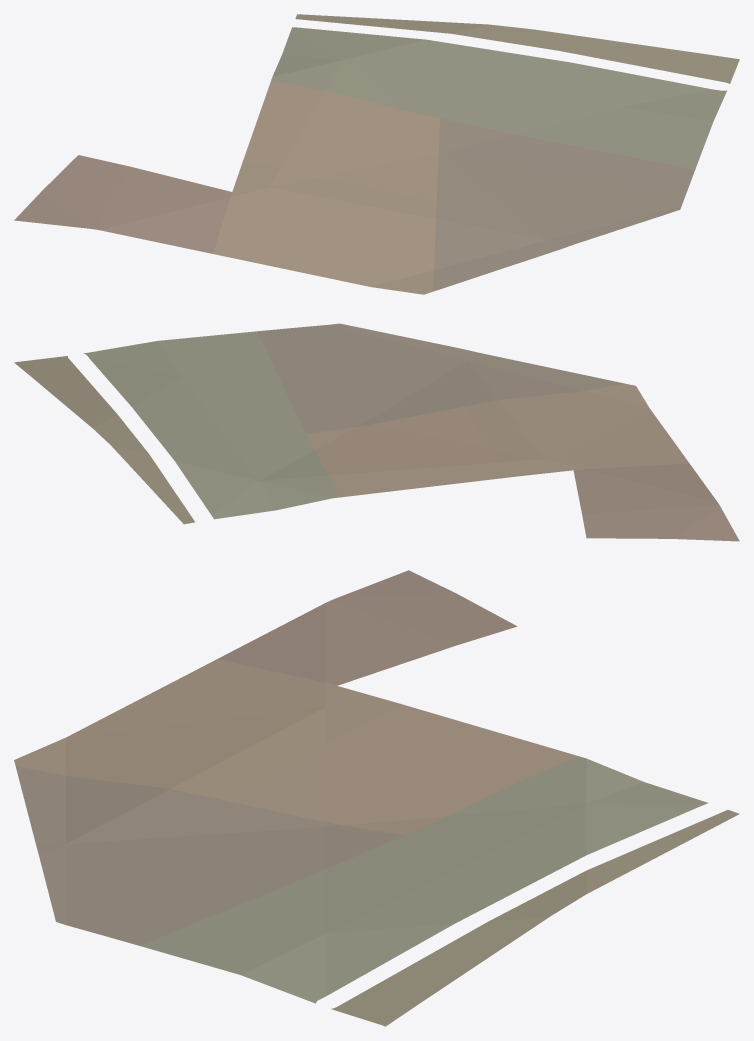
Rendered from farm_-7_1_soil.glb.
3 views of the same model, one above another, from view 1: azimuth 30°, elevation 25°; view 2: azimuth 150°, elevation 25°; view 3: azimuth 270°, elevation 25° (orthographic). The views are drawn at different scales.
Parts seen in each view (by area): view 1: geometry_0; view 2: geometry_0; view 3: geometry_0.
Boxes of the visible parts, <box> form: geometry_0: <box>14,14,739,294</box>; geometry_0: <box>14,323,739,541</box>; geometry_0: <box>14,570,739,1026</box>.
Bounding box in the file's own units: 326 × 15.86 × 223.
